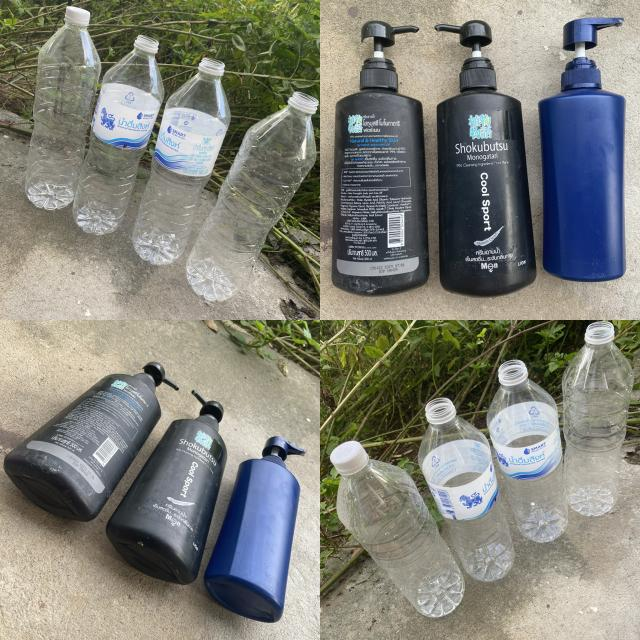plastik: (186, 91, 319, 301), (435, 20, 536, 296), (4, 362, 178, 521), (331, 20, 430, 295), (330, 441, 464, 618), (106, 390, 228, 584), (539, 18, 626, 281), (132, 58, 231, 265), (204, 436, 306, 622), (72, 35, 164, 235), (419, 398, 515, 581), (25, 6, 101, 210), (486, 360, 568, 542), (562, 321, 634, 516)
